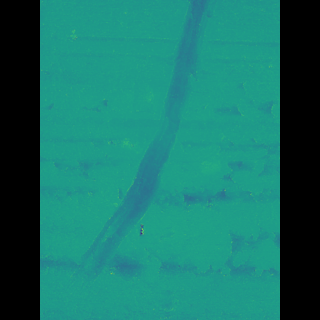Loch: (82, 0, 208, 307)
